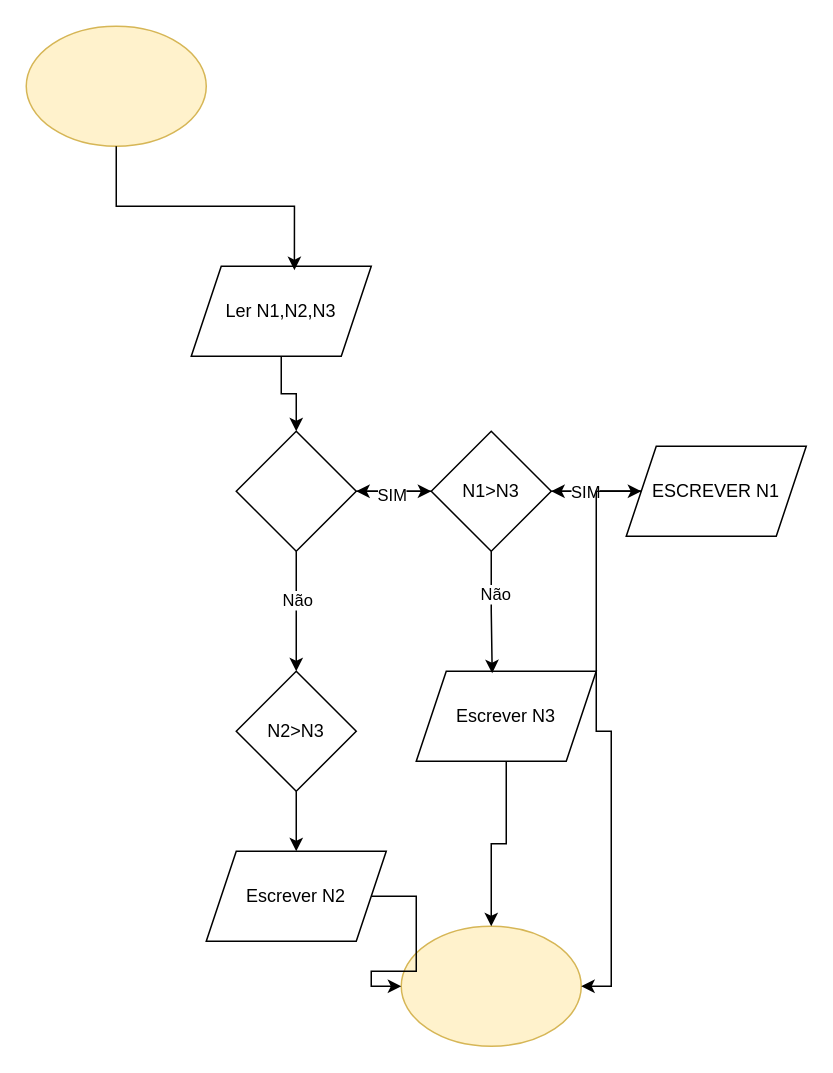
The diagram is 833 pixels wide and 1073 high, and some of its shapes have lost their labels. The centre of each missing label's shape, as x and y in pixels:
"FIM" belongs at (x=490, y=985).
"Início" belongs at (x=115, y=85).
"N1>N2" belongs at (x=295, y=490).
